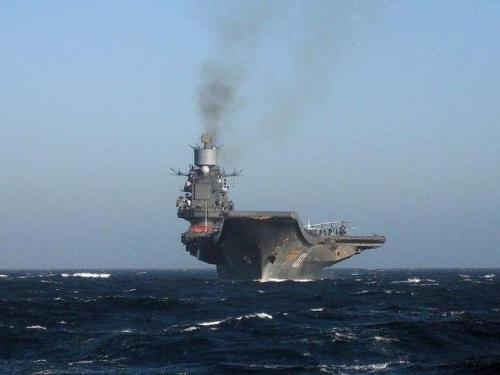smoke: (194, 1, 265, 135)
